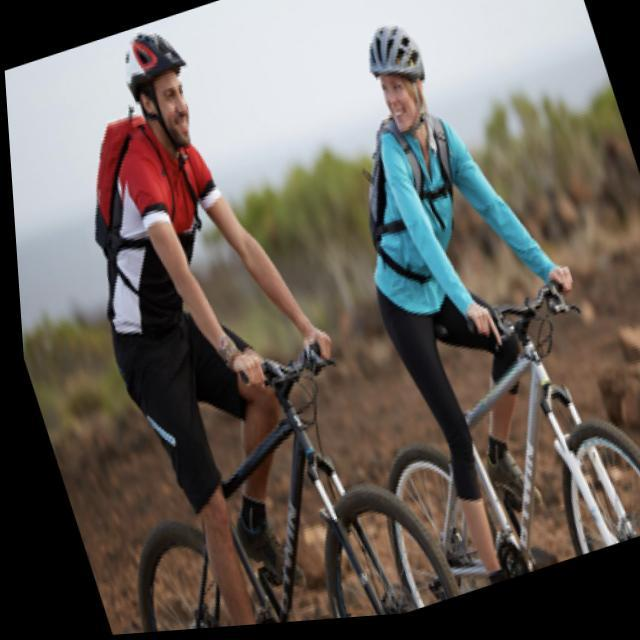Helmet: (111, 28, 208, 158), (359, 13, 433, 131)
